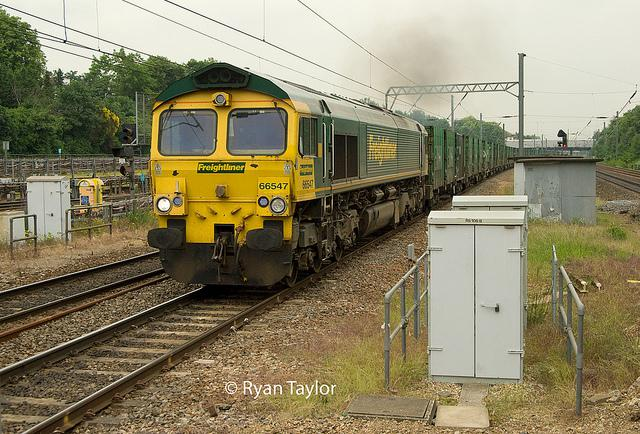Train: (146, 62, 512, 289)
